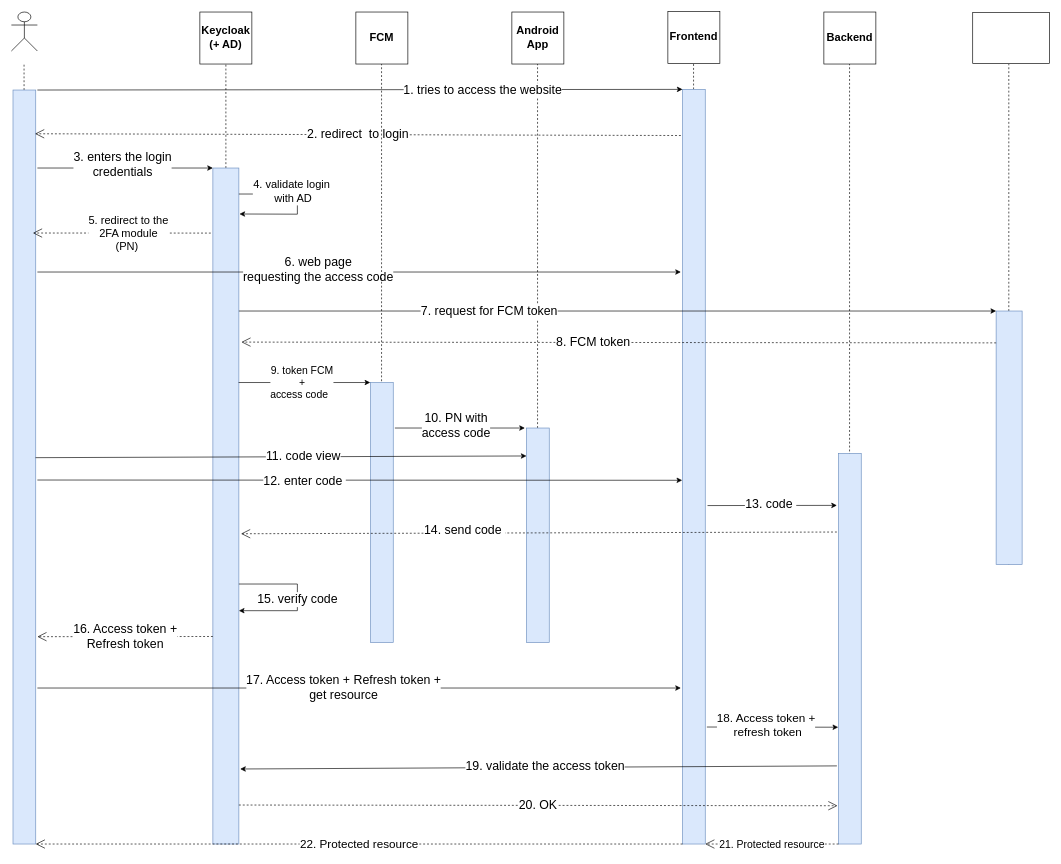
This 1061x864 diagram has some shape labels left out. Here are the shapes that lost their labels. From the top down, the box of each, then its label:
(11, 11, 37, 51): Actor
(972, 12, 1049, 63): VaultProvider
